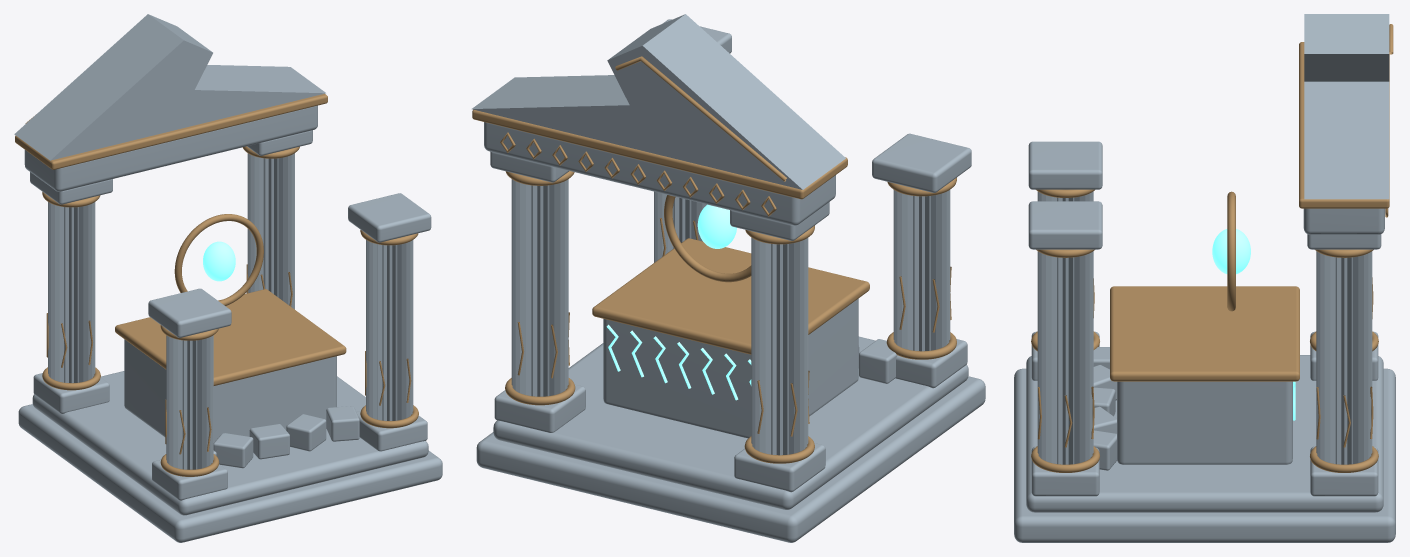
The model's file is temple_refined.glb.
3 views of the same model, side by side, from view 1: azimuth 30°, elevation 25°; view 2: azimuth 150°, elevation 25°; view 3: azimuth 270°, elevation 25° (orthographic). The views are drawn at different scales.
Visible parts, largest first — view 1: Temple_BrokenPediment.001, Temple_Foundation.003, Temple_Foundation.002, Temple_Altar.001, Temple_AltarTrim.001, Temple_FlutedColumn.007, Temple_FlutedColumn.004, Temple_Entablature.001, Temple_FlutedColumn.005, Temple_FlutedColumn.006, Temple_GoldCornice.001, Temple_CarvedCapital.006 (+15 smaller); view 2: Temple_BrokenPediment.001, Temple_Foundation.003, Temple_Foundation.002, Temple_Altar.001, Temple_AltarTrim.001, Temple_FlutedColumn.004, Temple_FlutedColumn.005, Temple_Entablature.001, Temple_FlutedColumn.006, Temple_CarvedCapital.006, Temple_GoldCornice.001, Temple_Pl columnbase.004 (+12 smaller); view 3: Temple_AltarTrim.001, Temple_Foundation.003, Temple_BrokenPediment.001, Temple_Foundation.002, Temple_Altar.001, Temple_FlutedColumn.005, Temple_FlutedColumn.007, Temple_CarvedCapital.007, Temple_CarvedCapital.006, Temple_Entablature.001, Temple_GoldCornice.001, Temple_Pl columnbase.005 (+11 smaller).
Part boxes in pixels (x1,y1,x2,y2): Temple_BrokenPediment.001: (14, 14, 325, 160); Temple_Foundation.003: (32, 371, 428, 515); Temple_Foundation.002: (18, 404, 442, 542); Temple_Altar.001: (124, 339, 336, 442); Temple_AltarTrim.001: (115, 289, 346, 385); Temple_FlutedColumn.007: (366, 240, 413, 420); Temple_FlutedColumn.004: (48, 202, 95, 383); Temple_Entablature.001: (24, 105, 317, 191); Temple_FlutedColumn.005: (247, 153, 294, 309); Temple_FlutedColumn.006: (166, 335, 213, 469); Temple_GoldCornice.001: (15, 93, 327, 169); Temple_CarvedCapital.006: (148, 288, 231, 337); Temple_BrokenPediment.001: (472, 14, 845, 189); Temple_Foundation.003: (493, 336, 968, 509); Temple_Foundation.002: (476, 376, 985, 542); Temple_Altar.001: (603, 298, 858, 438); Temple_AltarTrim.001: (592, 238, 869, 354); Temple_FlutedColumn.004: (751, 237, 808, 455); Temple_FlutedColumn.005: (511, 179, 568, 396); Temple_Entablature.001: (484, 122, 835, 225); Temple_FlutedColumn.006: (893, 190, 950, 351); Temple_CarvedCapital.006: (872, 133, 971, 192); Temple_GoldCornice.001: (472, 109, 847, 199); Temple_Pl columnbase.004: (734, 443, 825, 492); Temple_AltarTrim.001: (1110, 286, 1299, 381); Temple_Foundation.003: (1026, 355, 1383, 512); Temple_BrokenPediment.001: (1304, 14, 1389, 199); Temple_Foundation.002: (1014, 368, 1395, 542); Temple_Altar.001: (1117, 381, 1292, 464); Temple_FlutedColumn.005: (1316, 251, 1372, 464); Temple_FlutedColumn.007: (1037, 251, 1093, 464); Temple_CarvedCapital.007: (1028, 201, 1102, 249); Temple_CarvedCapital.006: (1028, 141, 1102, 189); Temple_Entablature.001: (1303, 208, 1384, 234); Temple_GoldCornice.001: (1299, 42, 1389, 208); Temple_Pl columnbase.005: (1310, 446, 1378, 496).
Bounding box in the file's own units: 3.1 × 4.12 × 3.15.
